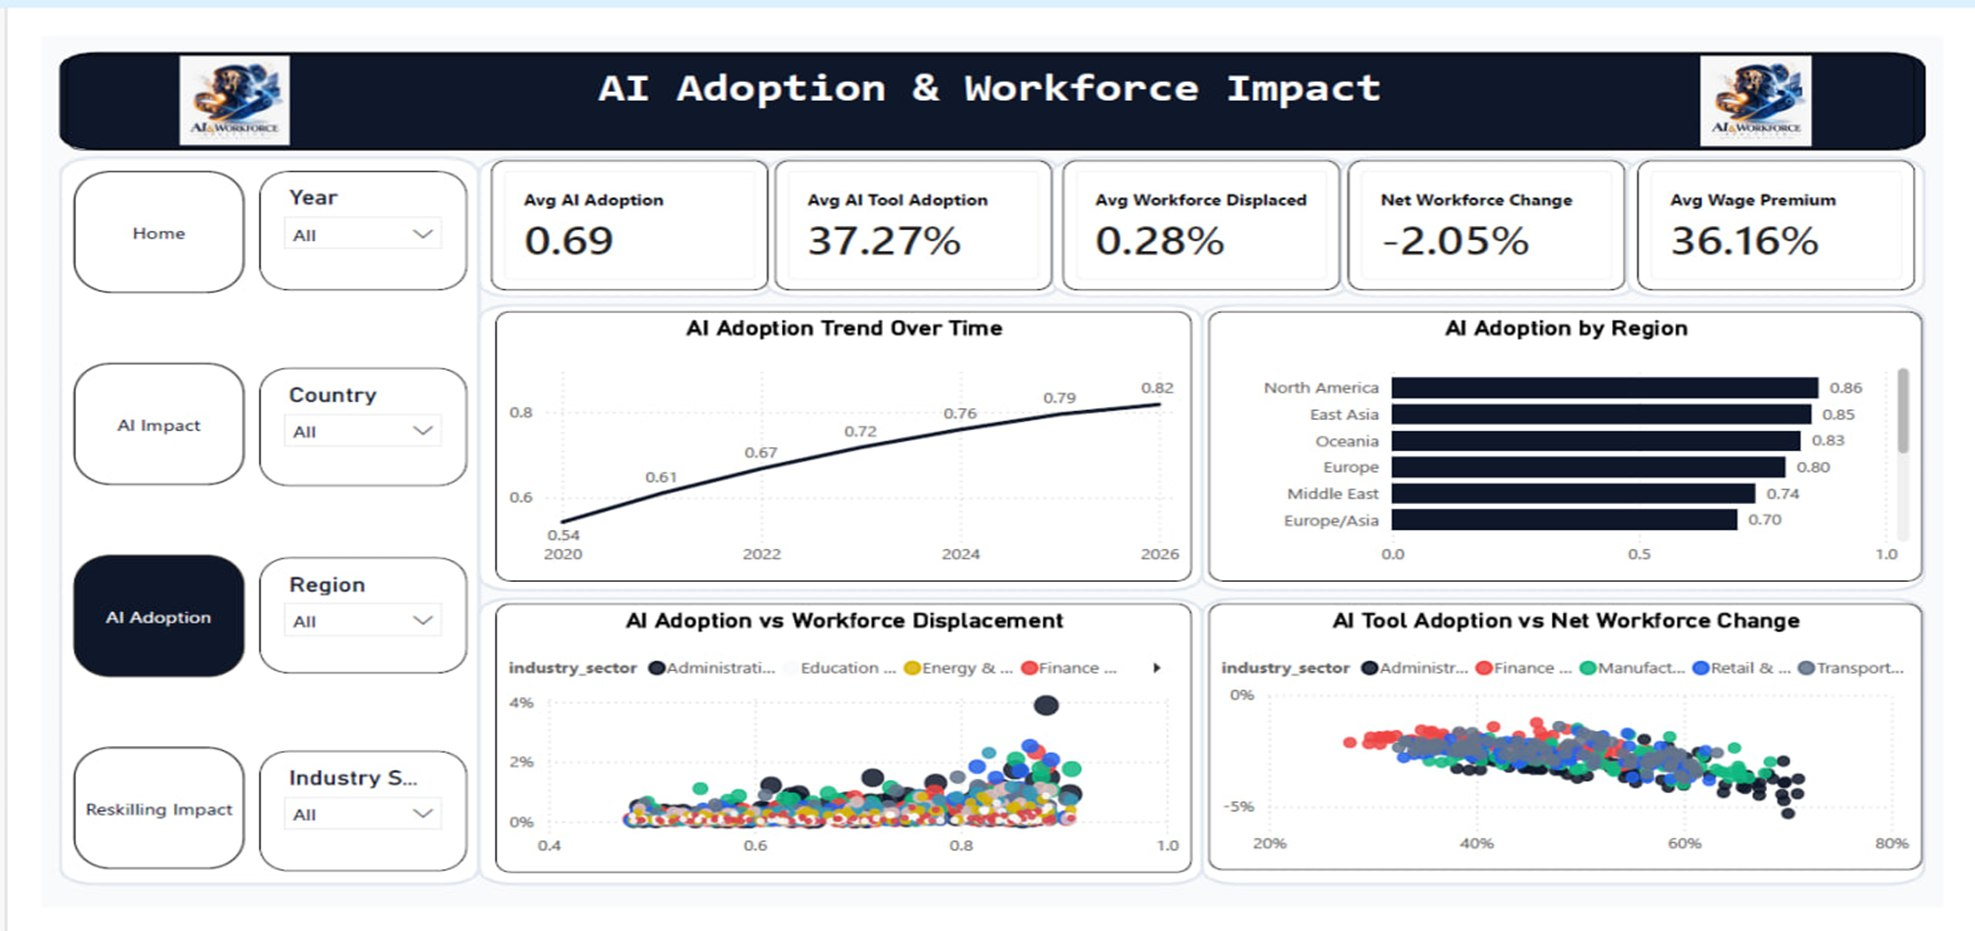

What the dashboard file says about the page in this screenshot:
{"tool":"powerbi","page":{"name":"AI Adoption","canvas":[1280,720],"ordinal":2},"visuals":[{"type":"lineChart","title":"AI Adoption Trend Over Time","fields":{"Y":["Measures 1.Avg AI Adoption"],"Category":["ai_workforce_displacement_clean.year"]},"box":[304.7,226.8,469.1,223.9],"z":0},{"type":"cardVisual","fields":{"Data":["Measures 1.Avg Wage Premium"]},"box":[1074.3,102,187.1,107.7],"z":1000},{"type":"clusteredBarChart","title":"AI Adoption by Region","fields":{"Category":["ai_workforce_displacement_clean.region"],"Y":["Measures 1.Avg AI Adoption"]},"box":[785.2,226.8,480.5,223.9],"z":2000},{"type":"textbox","box":[15.7,15,1245.7,78.6],"z":3000},{"type":"pageNavigator","box":[15.7,111.4,120,580],"z":4000},{"type":"slicer","fields":{"Values":["ai_workforce_displacement_clean.year"]},"box":[145.7,111.4,140,98.6],"z":5000},{"type":"slicer","fields":{"Values":["ai_workforce_displacement_clean.region"]},"box":[146,430.9,140,95.7],"z":6000},{"type":"slicer","fields":{"Values":["ai_workforce_displacement_clean.industry_sector"]},"box":[145.7,591.4,140,100],"z":7000},{"type":"cardVisual","fields":{"Data":["Measures 1.Net Workforce Change"]},"box":[878.7,102,187.1,107.7],"z":8000},{"type":"cardVisual","fields":{"Data":["Measures 1.Avg Workforce Displaced"]},"box":[687.4,102,187.1,107.7],"z":9000},{"type":"cardVisual","fields":{"Data":["Measures 1.Avg AI Tool Adoption"]},"box":[493.2,102,187.1,107.7],"z":10000},{"type":"cardVisual","fields":{"Data":["Measures 1.Avg AI Adoption"]},"box":[301.9,102,187.1,107.7],"z":11000},{"type":"scatterChart","title":"AI Adoption vs Workforce Displacement","fields":{"X":["Measures 1.Avg AI Adoption"],"Y":["Measures 1.Avg Workforce Displaced"],"Size":["Measures 1.Total AI Layoffs"],"Series":["ai_workforce_displacement_clean.industry_sector"],"Category":["ai_workforce_displacement_clean.country"]},"box":[304.7,469.1,469.1,222.5],"z":12000},{"type":"scatterChart","title":"AI Tool Adoption vs Net Workforce Change","fields":{"X":["Measures 1.Avg AI Tool Adoption"],"Y":["Measures 1.Net Workforce Change"],"Series":["ai_workforce_displacement_clean.industry_sector"],"Category":["ai_workforce_displacement_clean.country"]},"box":[785.2,469.1,480.5,221.1],"z":13000},{"type":"slicer","fields":{"Values":["ai_workforce_displacement_clean.country"]},"box":[146,273.5,140,98.6],"z":14000},{"type":"image","box":[1100,15.7,107.1,74.3],"z":15000},{"type":"image","box":[75.1,15.6,107.7,73.7],"z":16000}]}

Visuals, with their boxes on the page's 1280x720 design canvas (x1, y1, x2, y2). These are canvas units, not pixel positions in the 1975x931 screenshot, which may show the page scaled, cropped or inside an application window:
"AI Adoption Trend Over Time" lineChart: 305, 227, 774, 451
cardVisual - Measures 1.Avg Wage Premium: 1074, 102, 1261, 210
"AI Adoption by Region" clusteredBarChart: 785, 227, 1266, 451
textbox: 16, 15, 1261, 94
pageNavigator: 16, 111, 136, 691
slicer - ai_workforce_displacement_clean.year: 146, 111, 286, 210
slicer - ai_workforce_displacement_clean.region: 146, 431, 286, 527
slicer - ai_workforce_displacement_clean.industry_sector: 146, 591, 286, 691
cardVisual - Measures 1.Net Workforce Change: 879, 102, 1066, 210
cardVisual - Measures 1.Avg Workforce Displaced: 687, 102, 874, 210
cardVisual - Measures 1.Avg AI Tool Adoption: 493, 102, 680, 210
cardVisual - Measures 1.Avg AI Adoption: 302, 102, 489, 210
"AI Adoption vs Workforce Displacement" scatterChart: 305, 469, 774, 692
"AI Tool Adoption vs Net Workforce Change" scatterChart: 785, 469, 1266, 690
slicer - ai_workforce_displacement_clean.country: 146, 274, 286, 372
image: 1100, 16, 1207, 90
image: 75, 16, 183, 89
